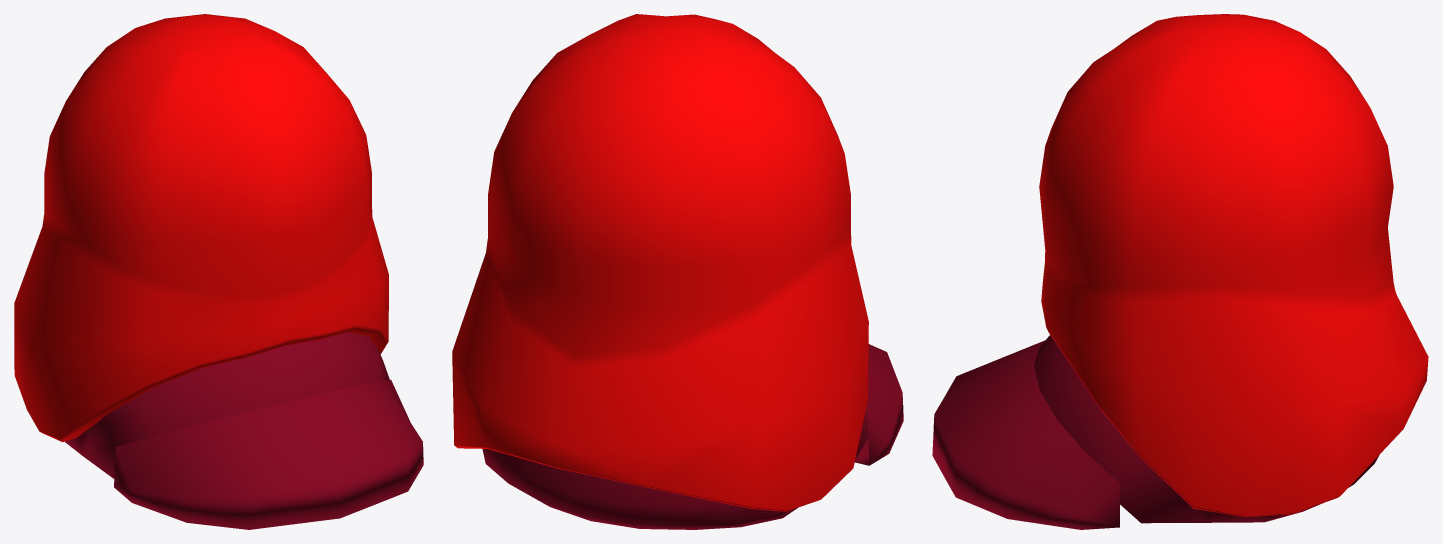
File: Left_downLeg-1.obj
3 renders of one model, left to right at view 1: azimuth 30°, elevation 25°; view 2: azimuth 150°, elevation 25°; view 3: azimuth 270°, elevation 25°, orthographic. The views are drawn at different scales.
Parts seen in each view (by area): view 1: polySurface239; view 2: polySurface239; view 3: polySurface239.
Boxes of the visible parts, x1,y1,x2,y2 form: polySurface239: (14, 14, 423, 529); polySurface239: (452, 14, 903, 529); polySurface239: (932, 14, 1428, 529).
Bounding box in the file's own units: 2.3 × 2.68 × 2.83.
